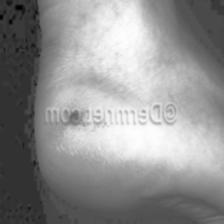Toxin: (64, 104, 84, 132)
